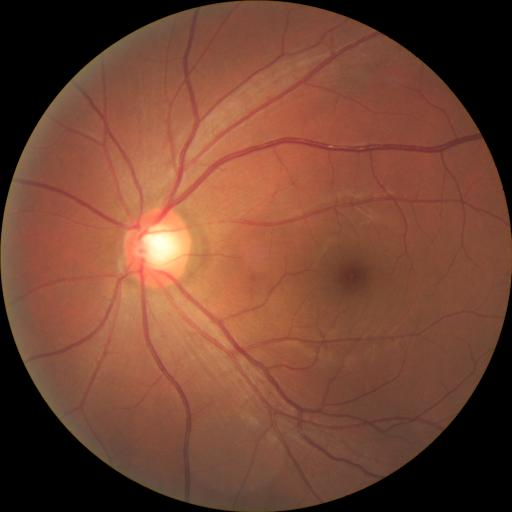Optic Cup: (142, 225, 180, 267)
Optic Disc: (124, 208, 193, 287)
